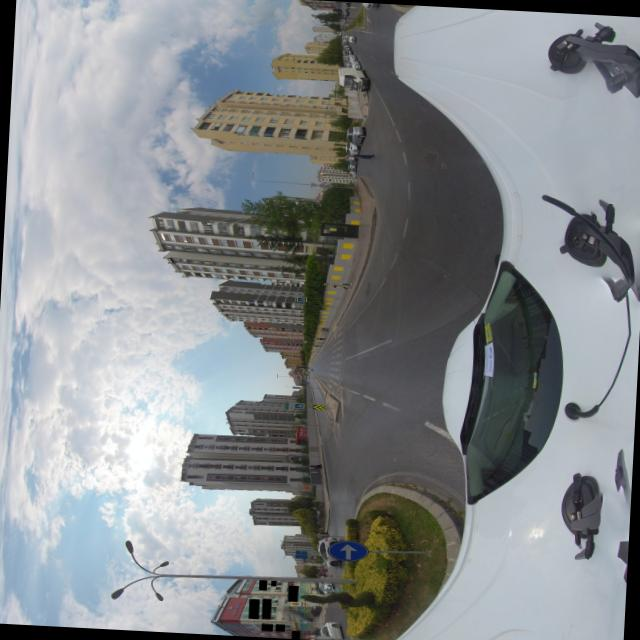SignStore: (249, 598, 260, 618), (262, 598, 272, 618), (288, 585, 299, 601), (259, 579, 267, 590), (262, 623, 273, 631), (249, 623, 261, 630), (292, 630, 300, 639), (276, 623, 285, 631), (271, 580, 277, 585)
